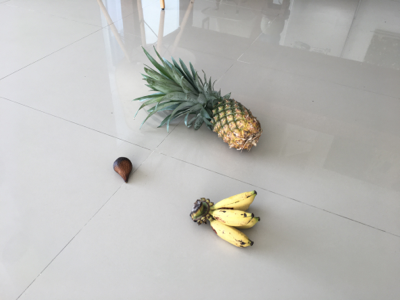banana: (190, 191, 261, 249)
pineapple: (136, 47, 262, 155)
snake fruit: (113, 157, 134, 184)
